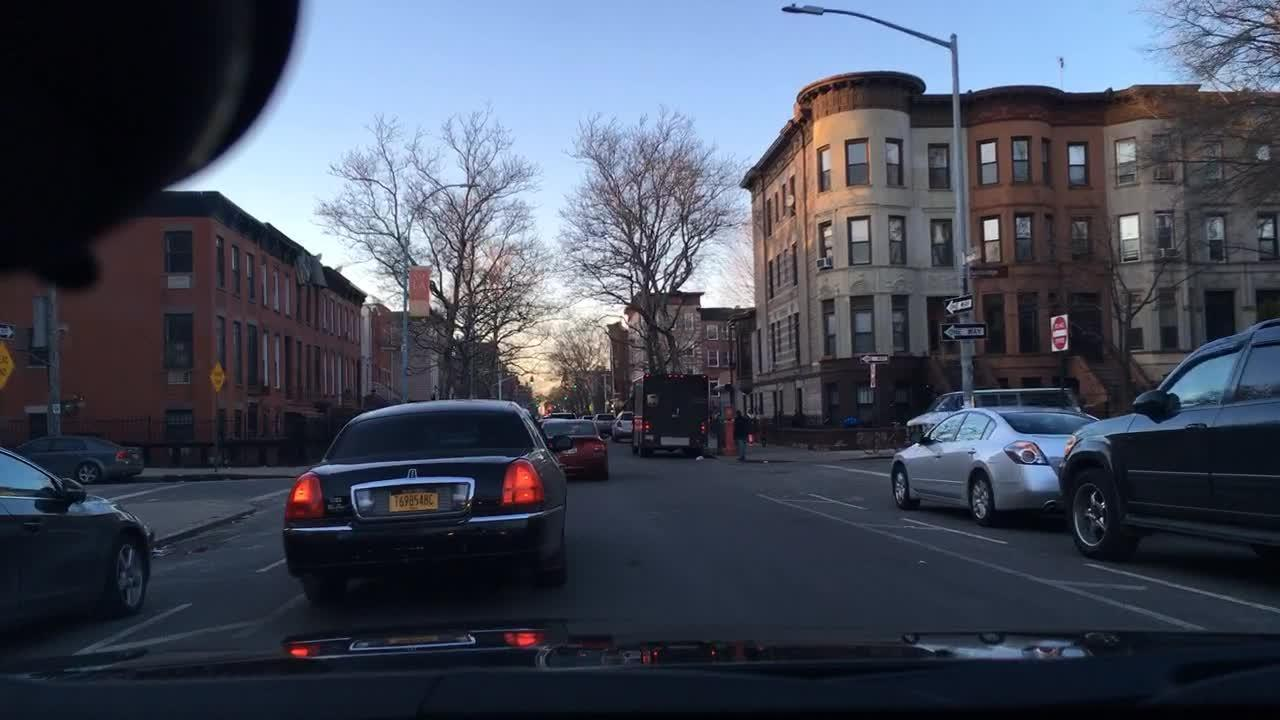lincoln: (403, 466, 422, 486)
